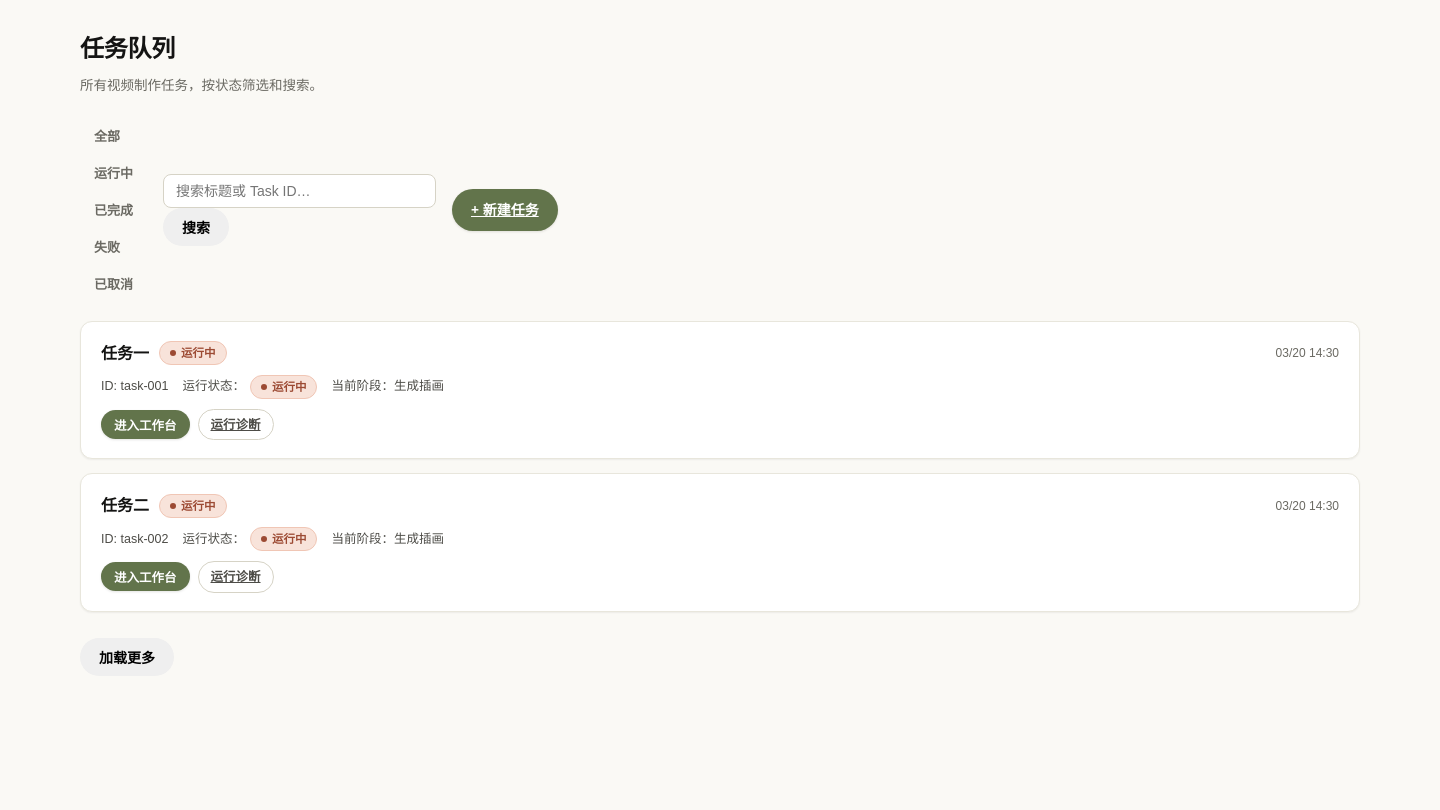
Test: TasksPage (§3P production route evidence) › deduplicates task_id on append, preserving server order
Expected: the heading "任务一" is shown, [101,340,149,367]
Click the button "加载更多". click: (127, 657)
box: [80,638,174,676]
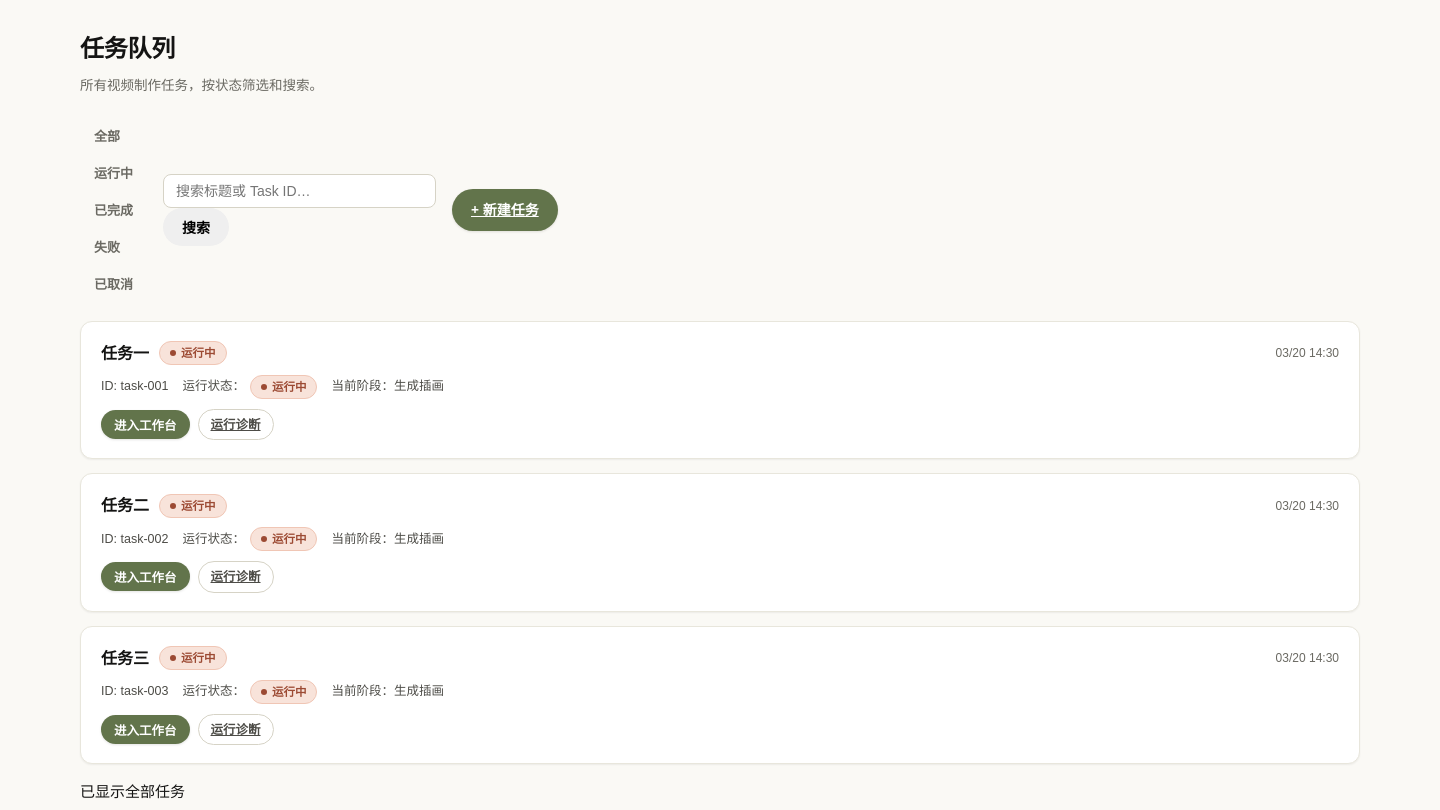
Expected: the number of headings "任务二" is 1, [101,492,149,519]
Now the heading "任务三" is shown, box [101,645,149,672]
